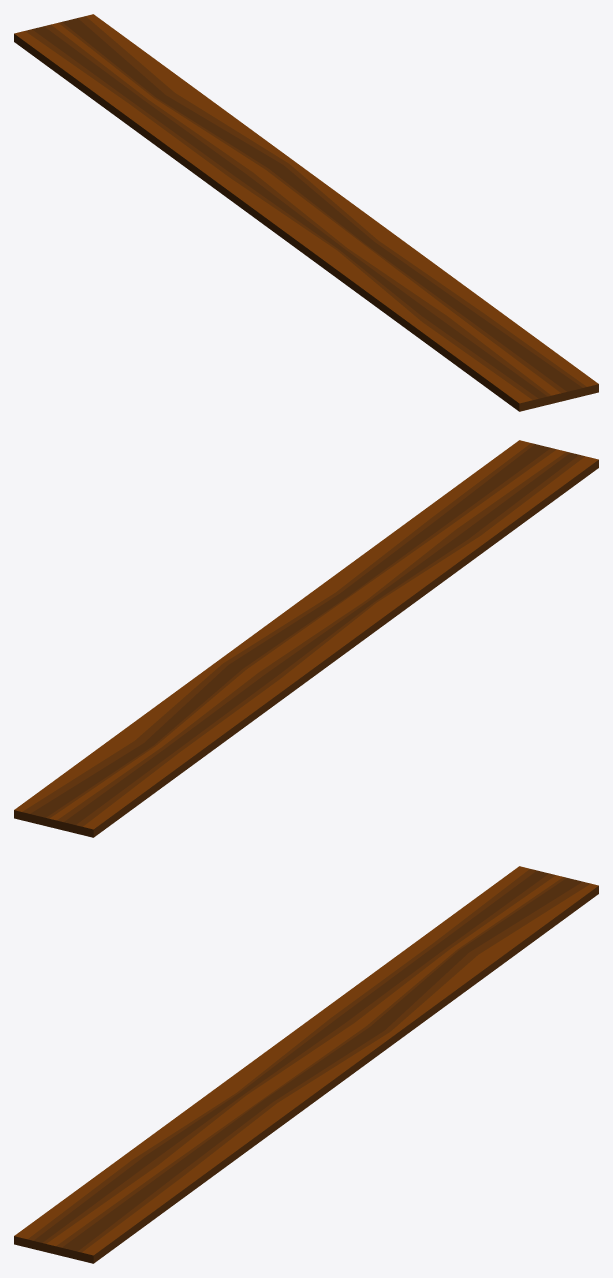
File: plankv2.fbx
The picture shows the model from 3 angles, top to bottom: view 1: azimuth 30°, elevation 25°; view 2: azimuth 150°, elevation 25°; view 3: azimuth 330°, elevation 25°; orthographic projection.
Parts seen in each view (by area): view 1: wood plank; view 2: wood plank; view 3: wood plank.
Boxes of the visible parts, left/top/right/bottom form: wood plank: left=14, top=14, right=598, bottom=411; wood plank: left=14, top=440, right=598, bottom=837; wood plank: left=14, top=866, right=598, bottom=1263.
Bounding box in the file's own units: 1 × 0.1 × 11.
